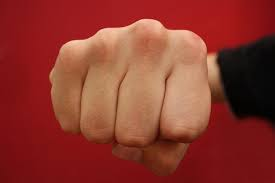fist: (67, 26, 201, 157)
